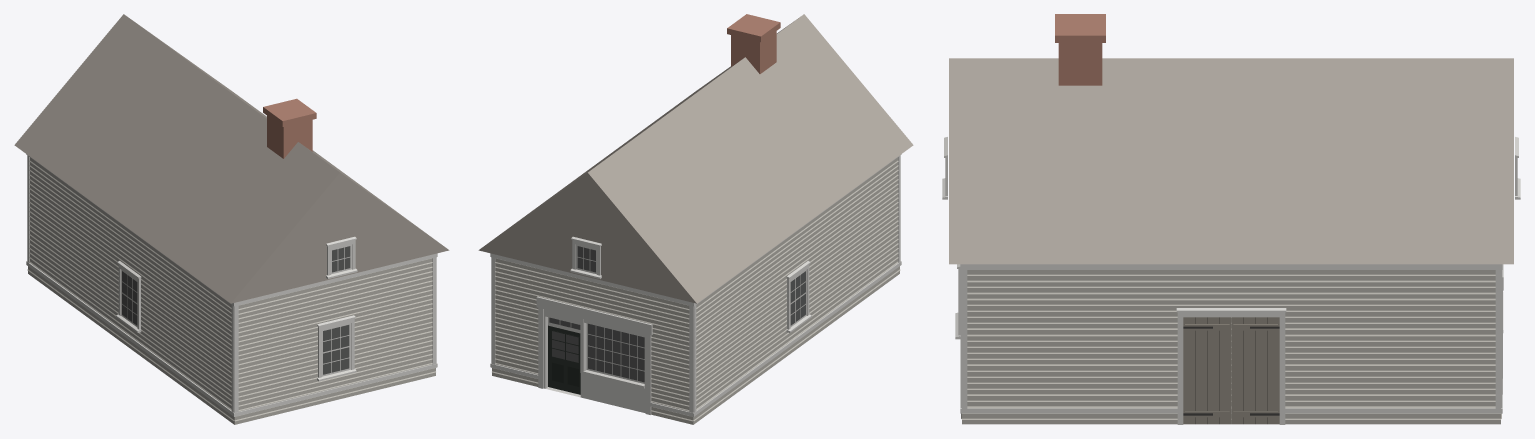
Rendered from recon_1835_core_c2_038__inferred_1835.glb.
3 views of the same model, side by side, from view 1: azimuth 30°, elevation 25°; view 2: azimuth 150°, elevation 25°; view 3: azimuth 270°, elevation 25° (orthographic). The views are drawn at different scales.
Parts seen in each view (by area): view 1: recon_1835_core_c2_038__inferred_1835; view 2: recon_1835_core_c2_038__inferred_1835; view 3: recon_1835_core_c2_038__inferred_1835.
Part boxes in pixels (x1,y1,x2,y2): recon_1835_core_c2_038__inferred_1835: [14, 14, 449, 424]; recon_1835_core_c2_038__inferred_1835: [478, 14, 913, 424]; recon_1835_core_c2_038__inferred_1835: [942, 14, 1520, 424].
Size of the model in its own units: 6.33 by 7.11 by 11.1.
